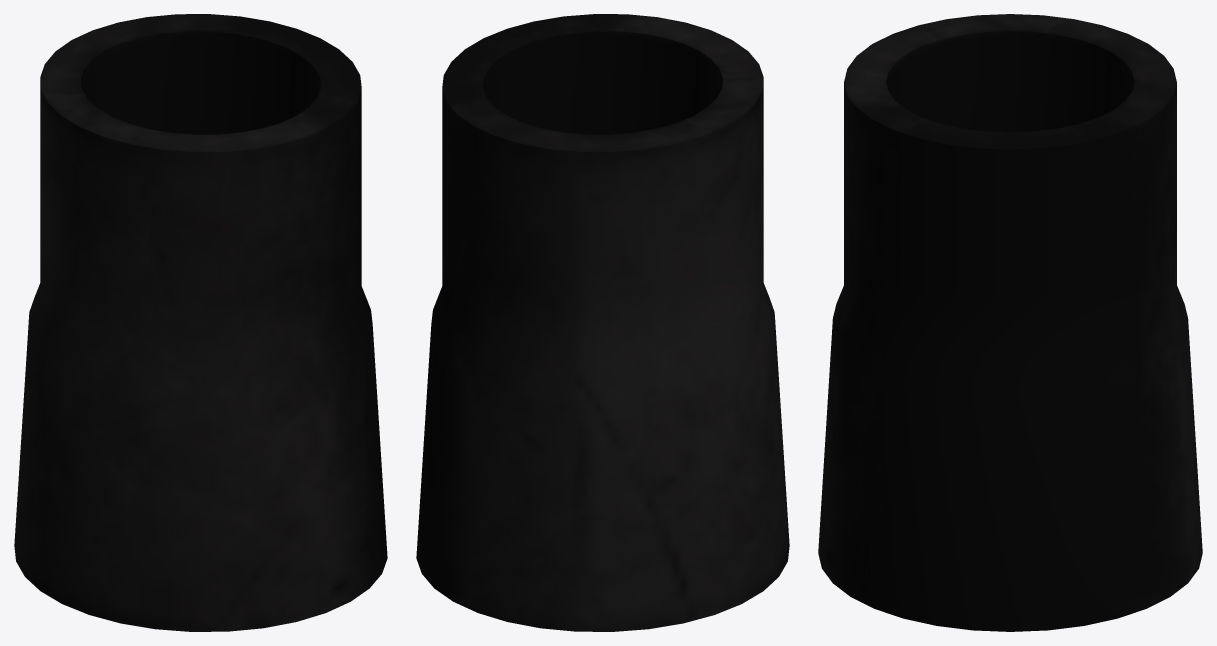
The model's file is Nozzle.fbx.
3 views of the same model, side by side, from view 1: azimuth 30°, elevation 25°; view 2: azimuth 150°, elevation 25°; view 3: azimuth 270°, elevation 25° (orthographic).
Visible parts, largest first — view 1: Moveable005; view 2: Moveable005; view 3: Moveable005.
Boxes of the visible parts, bbox=[...] form: Moveable005: bbox=[14, 14, 387, 631]; Moveable005: bbox=[416, 14, 789, 631]; Moveable005: bbox=[818, 14, 1202, 631].
Size of the model in its own units: 4.44 by 6.2 by 4.58.
